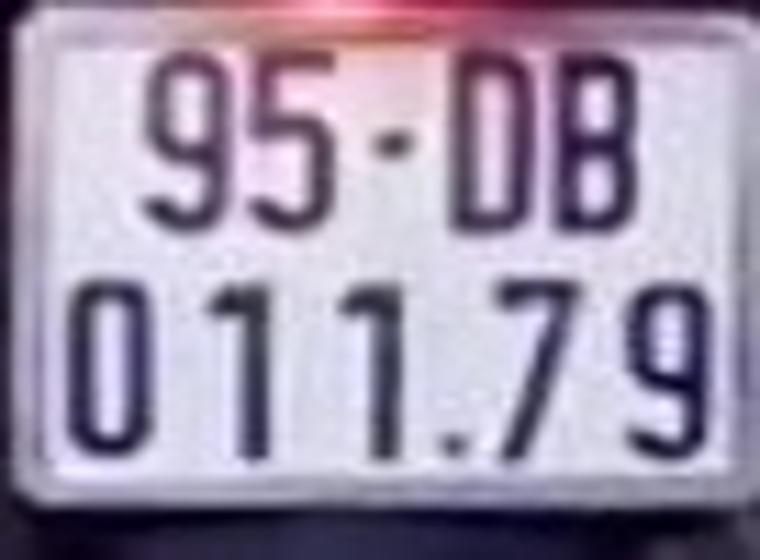-: (371, 131, 412, 152)
.: (441, 433, 465, 454)
0: (66, 279, 154, 455)
1: (339, 280, 403, 459), (215, 278, 272, 459)
5: (252, 45, 336, 231)
7: (497, 279, 576, 457)
9: (150, 51, 230, 229), (629, 287, 709, 460)
B: (556, 51, 633, 231)
D: (443, 47, 533, 228)
